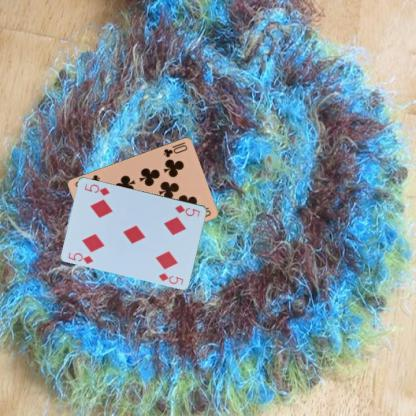10c: (161, 142, 188, 158)
5d: (173, 202, 201, 218), (66, 250, 95, 265)
